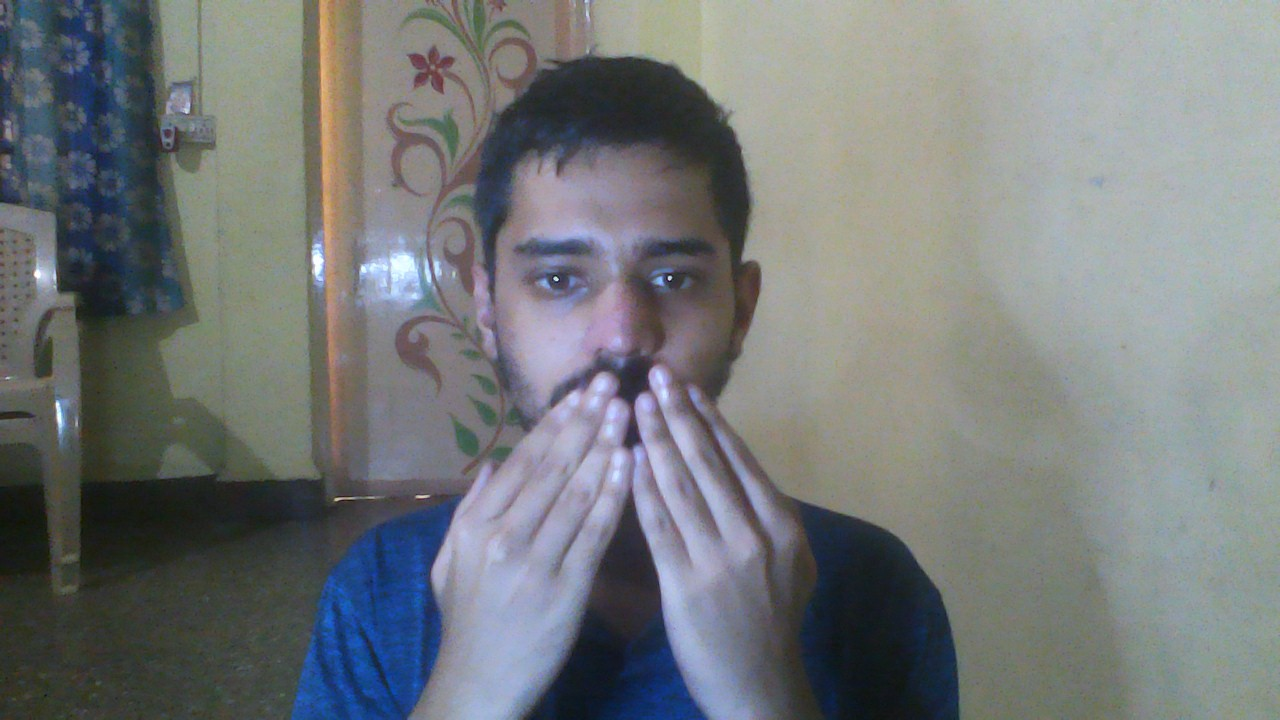thanks: (401, 358, 906, 720)
